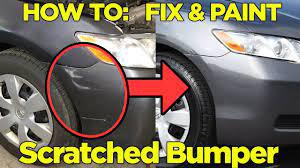front-bumper-dent: (25, 52, 158, 156)
